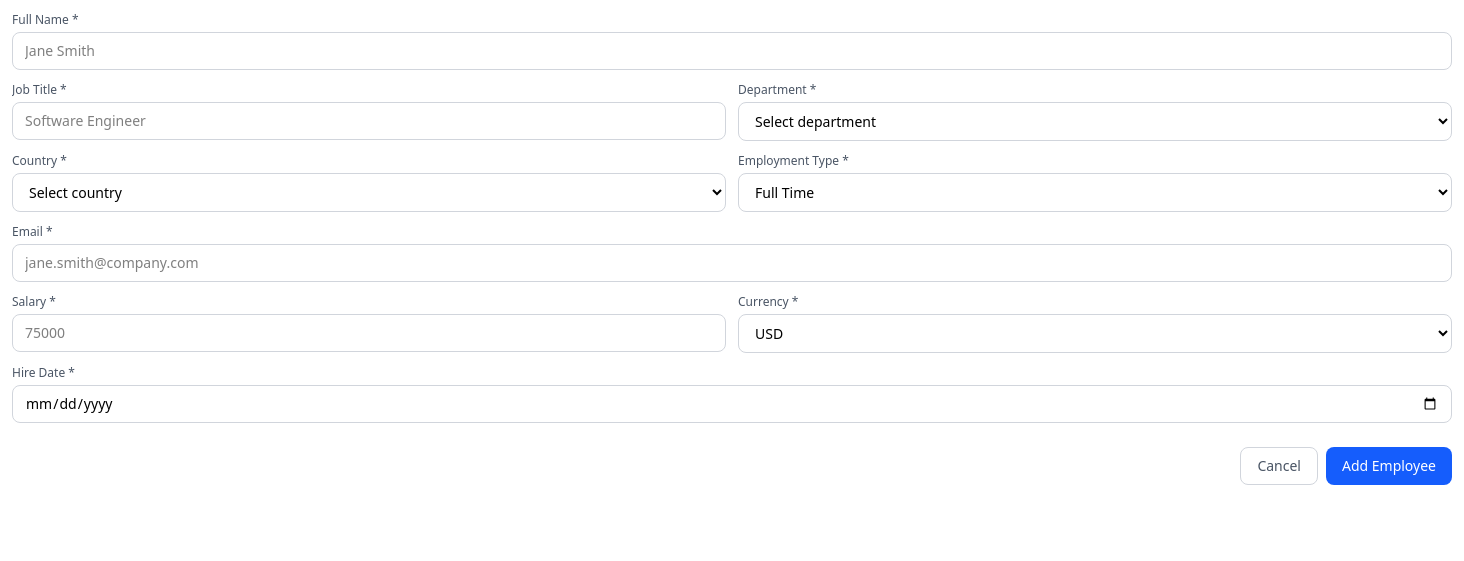
Test: EmployeeForm › displays server-side validation errors
Type "John Doe" into the field with placeholder "Jane Smith". click: (732, 51)
box: [12, 32, 1452, 70]
Type "Engineer" into the field with placeholder "Software Engineer". click: (369, 121)
box: [12, 102, 726, 140]
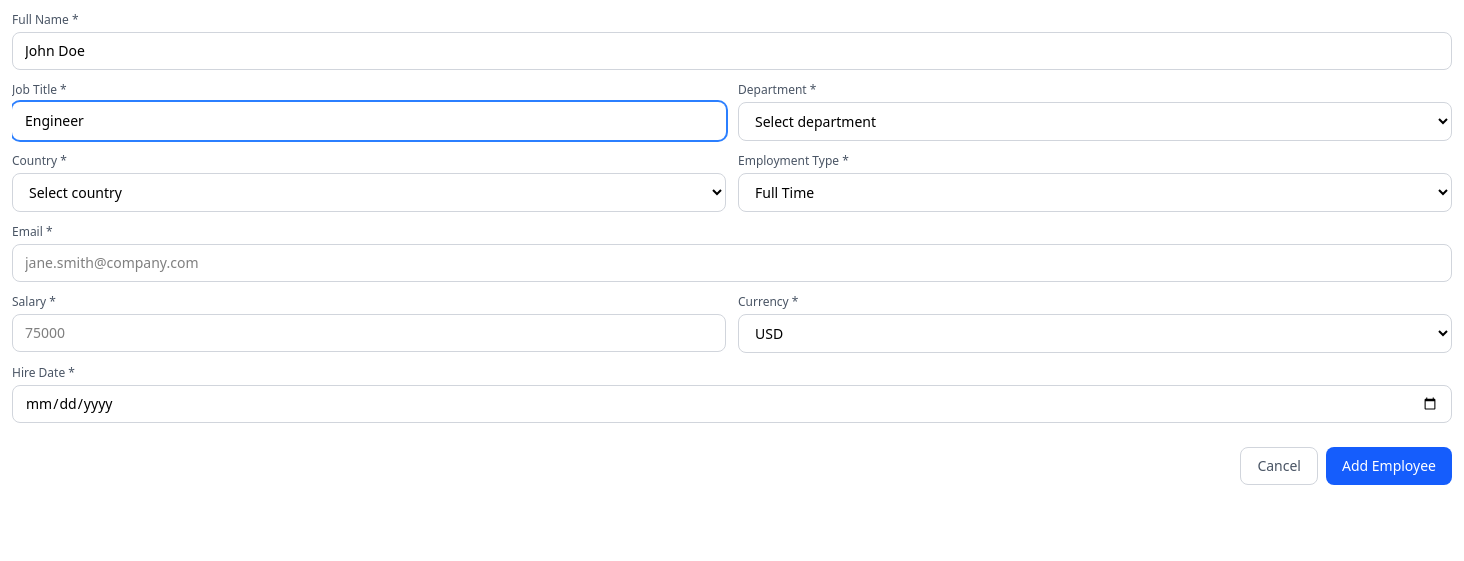
Select "Engineering" in the dropdown below "Department *". click: (1095, 122)
box: [738, 102, 1452, 141]
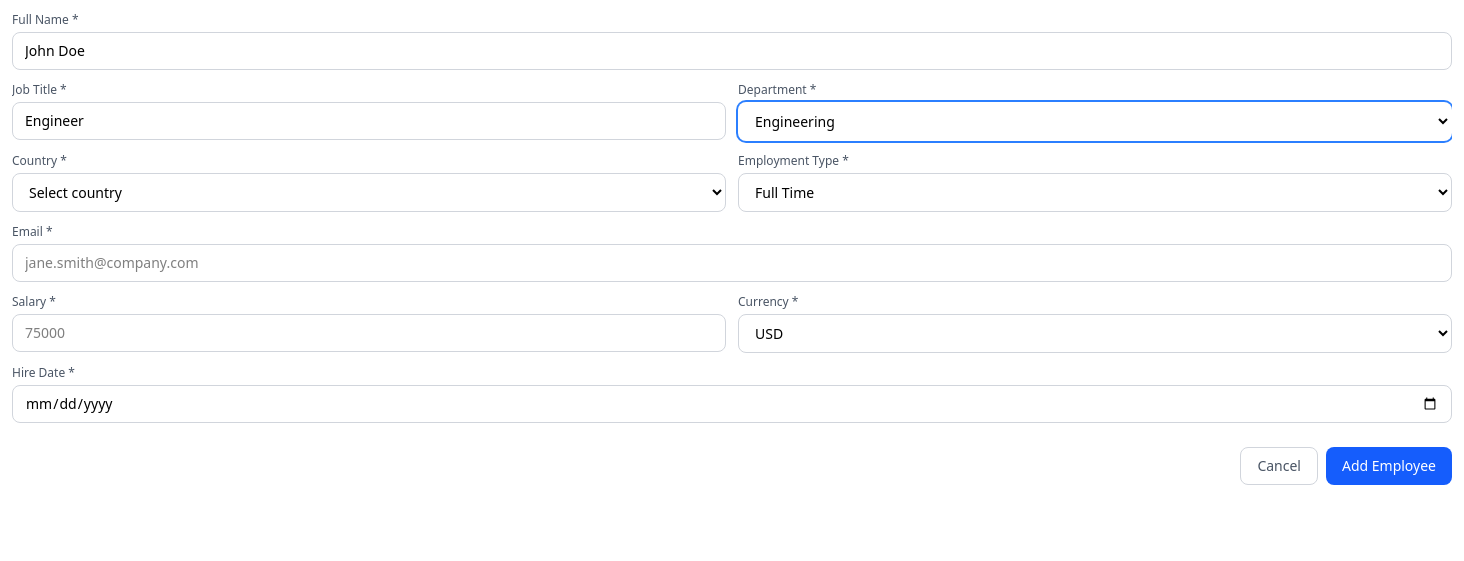
Select "India" in the dropdown below "Country *". click: (369, 192)
box: [12, 173, 726, 212]
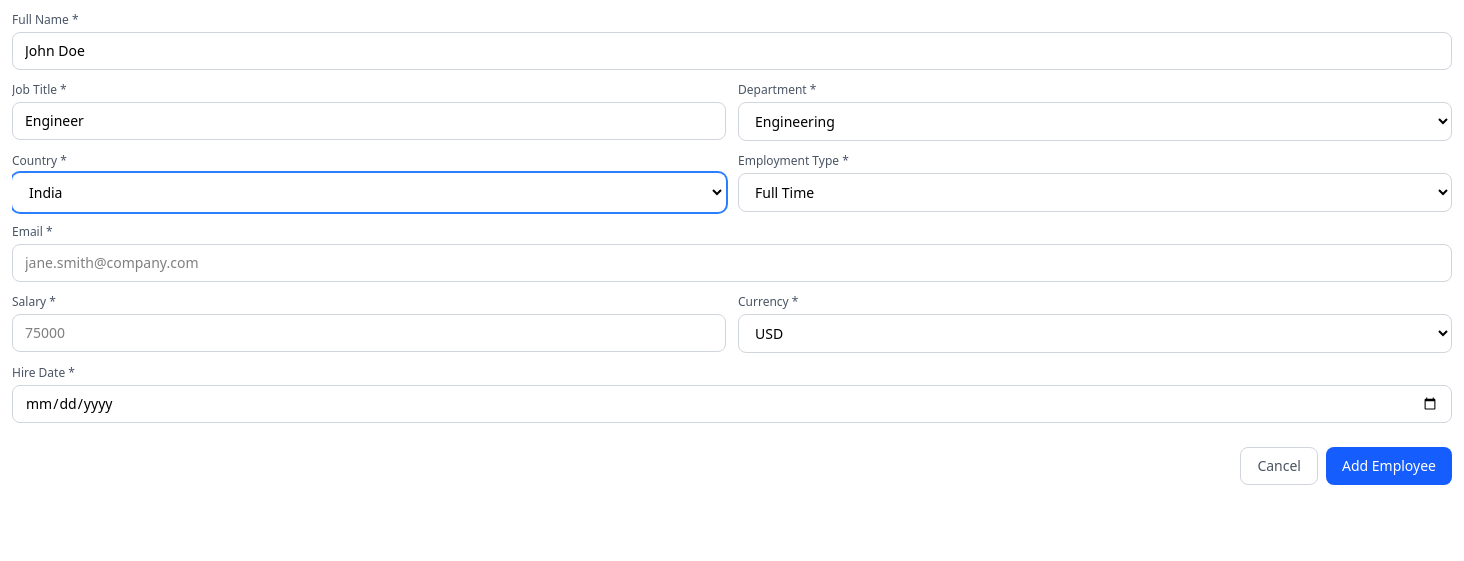
Type "john@example.com" into the field with placeholder "jane.smith@company.com". click: (732, 263)
box: [12, 244, 1452, 282]
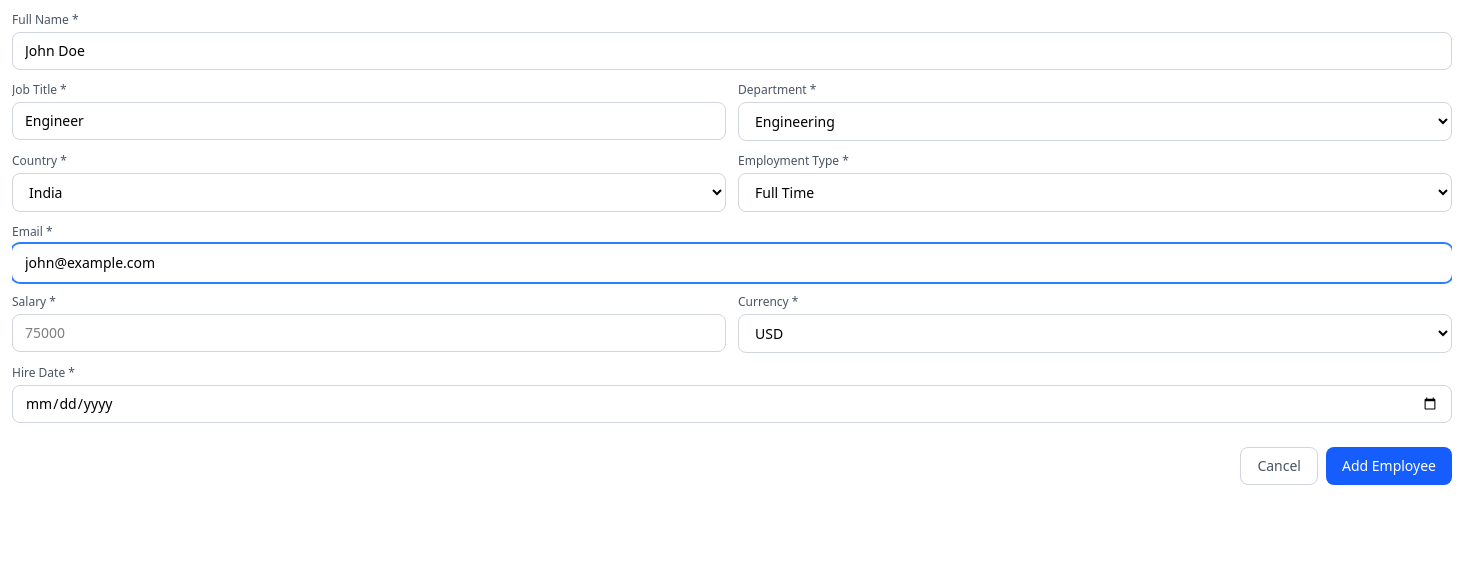
Type "80000" into the number field with placeholder "75000". click: (369, 333)
box: [12, 314, 726, 352]
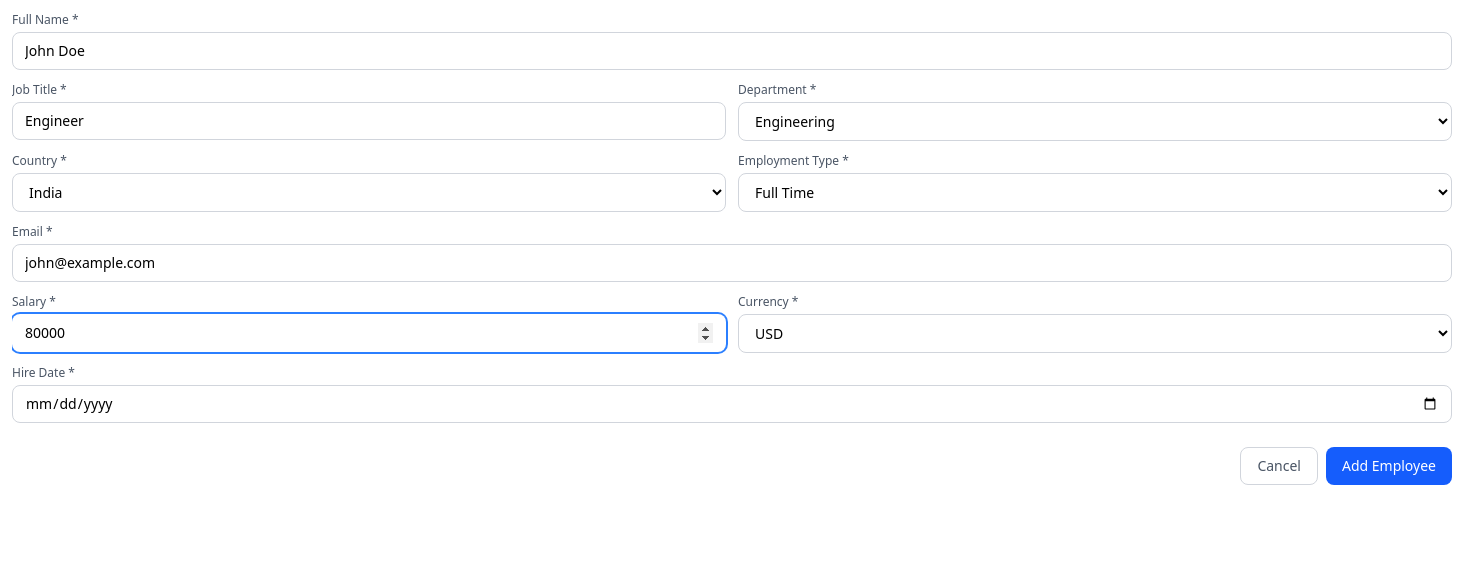
Type "2023-01-01" into the date field. click: (732, 404)
box: [12, 385, 1452, 423]
Click the button "Add Employee". click: (1389, 466)
box: [1326, 447, 1452, 485]
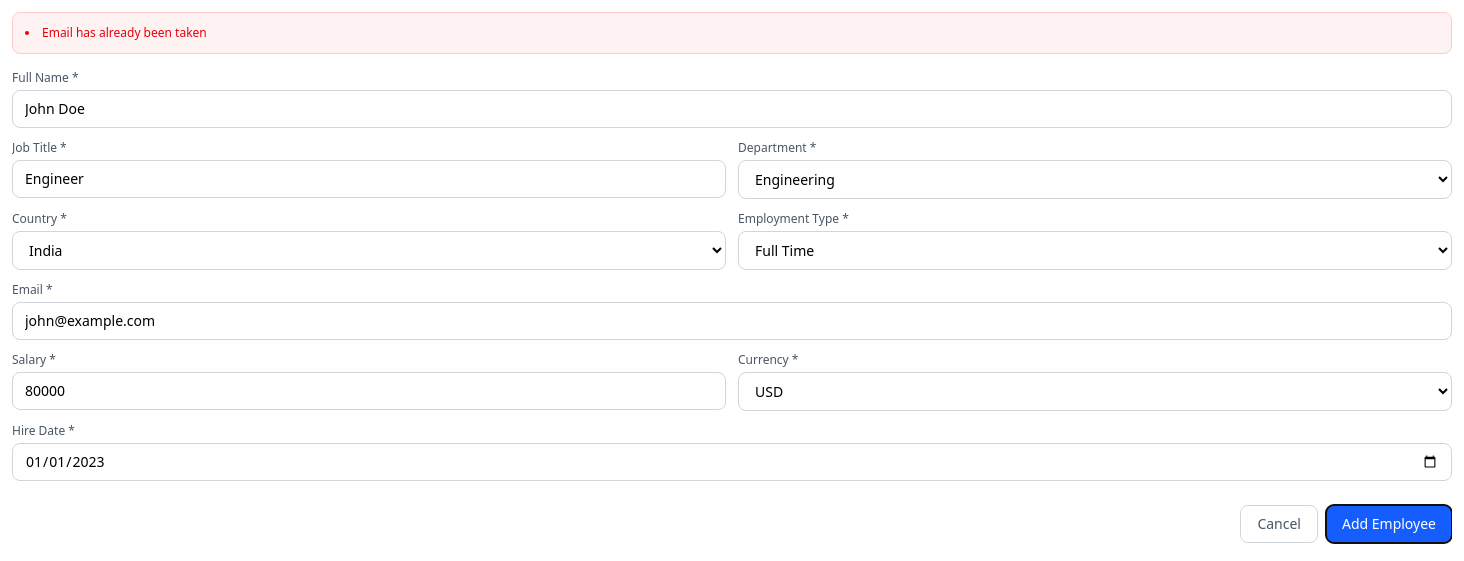
Expected: the list item "Email has already been taken" is shown, [42, 24, 207, 41]
